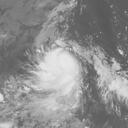cyclone: (24, 42, 106, 116)
